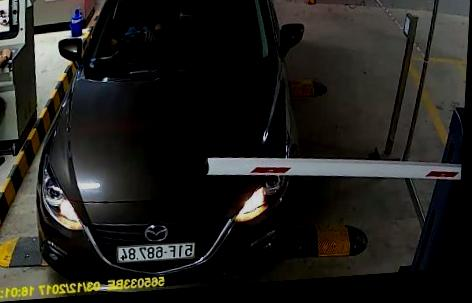License_Plate: (115, 238, 196, 265)
